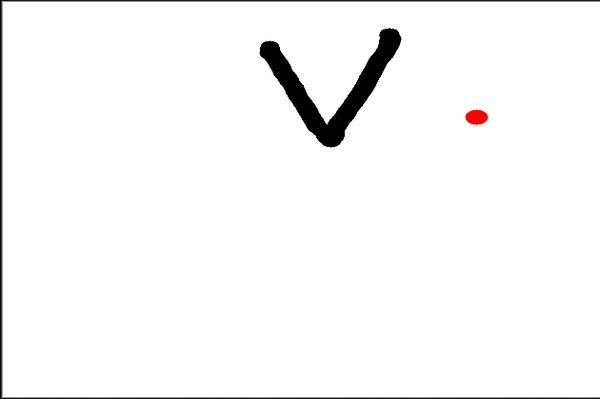V: (260, 27, 405, 148)
